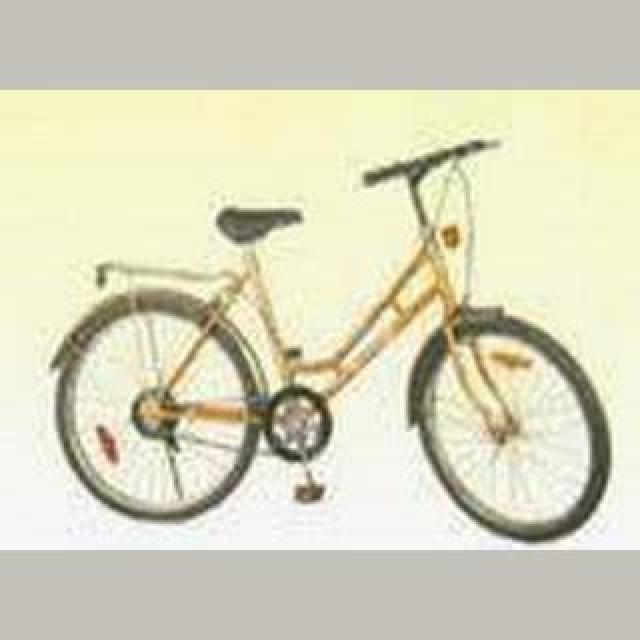Person: (52, 142, 610, 546)
